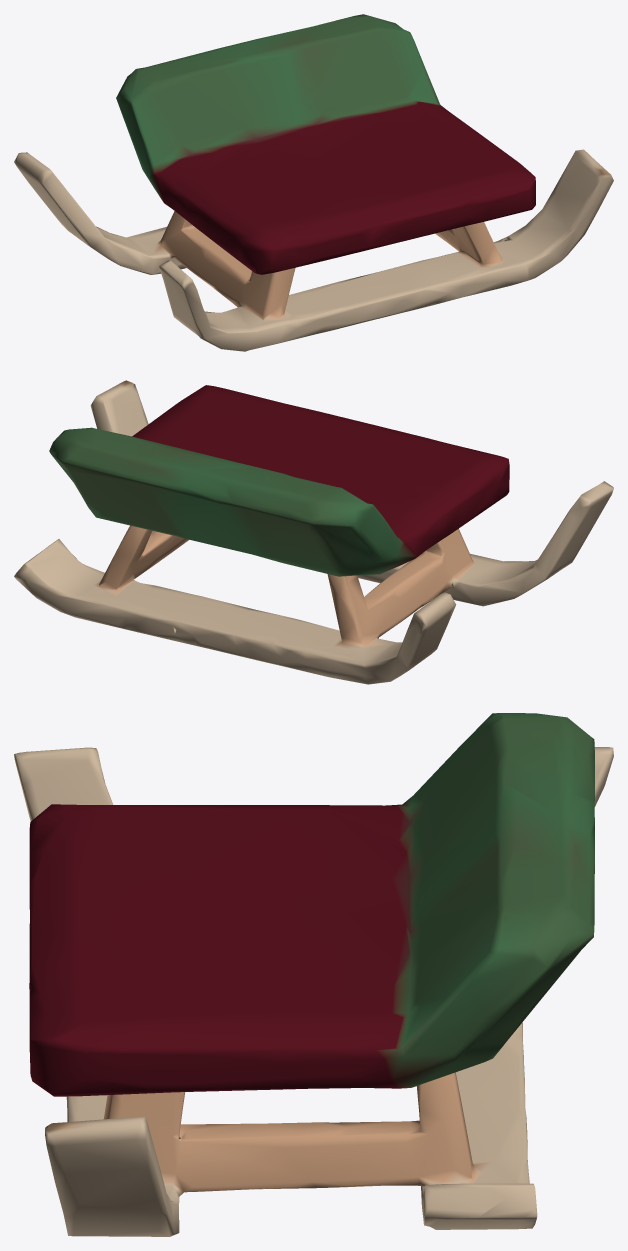
The model's file is gen3d-sleigh-lod0.glb.
3 renders of one model, top to bottom at view 1: azimuth 30°, elevation 25°; view 2: azimuth 150°, elevation 25°; view 3: azimuth 270°, elevation 25°, orthographic. The views are drawn at different scales.
Parts seen in each view (by area): view 1: part_0; view 2: part_0; view 3: part_0.
Boxes of the visible parts, x1,y1,x2,y2 form: part_0: (14,14,613,351); part_0: (14,380,613,684); part_0: (14,713,613,1236).
Size of the model in its own units: 2.7 by 0.9999 by 1.81.
